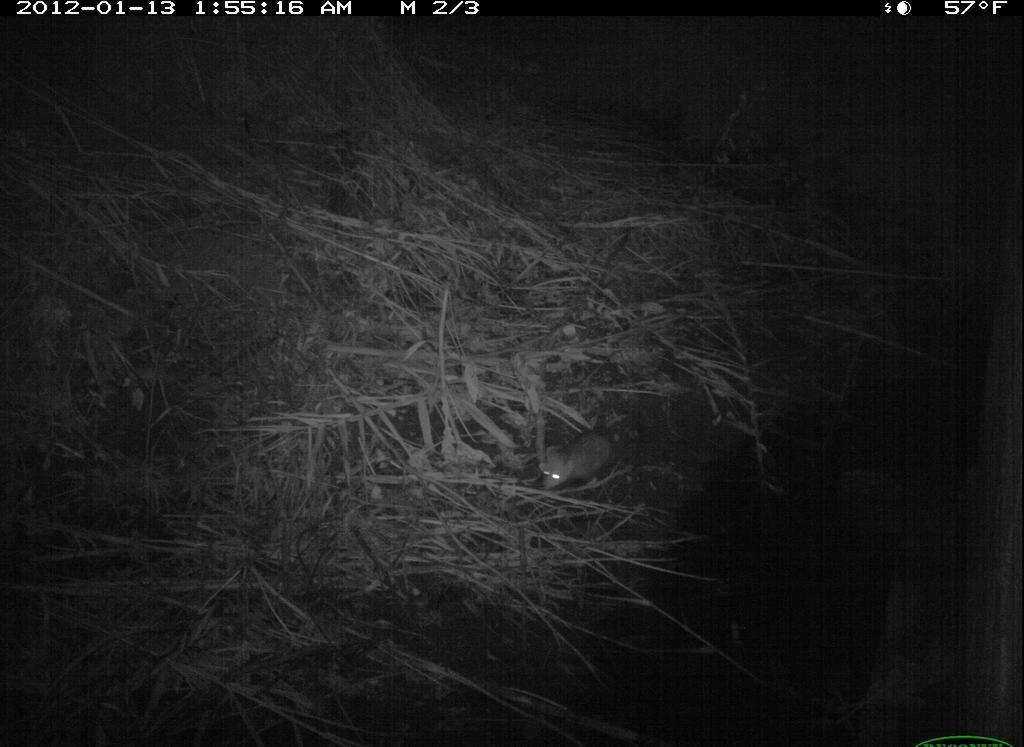opossum: (525, 427, 649, 506)
